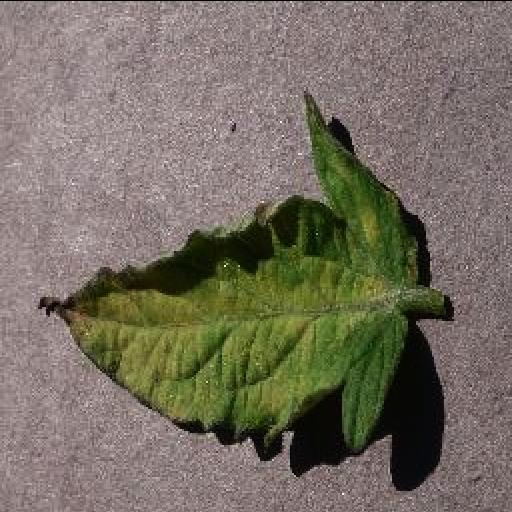disease_tomato: (34, 92, 422, 457)
